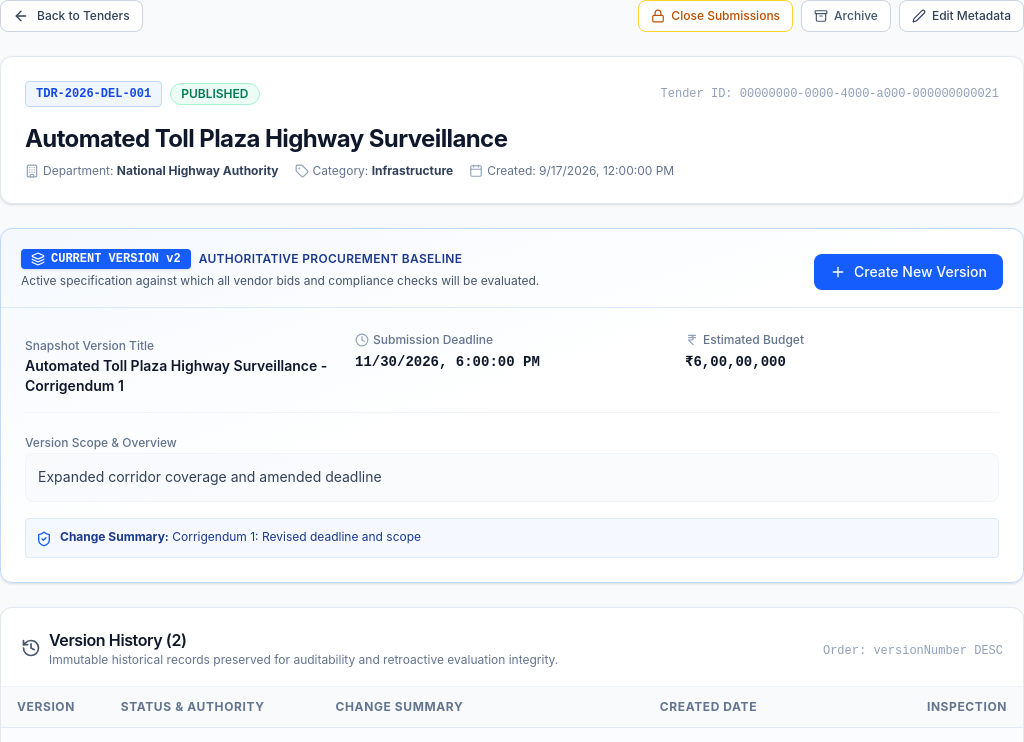
Phase 06 — Frontend Tender & Versioning Integration Tests › 2. Officer Tender Details Screen › handles 409 concurrency conflict when creating a version
This screenshot has width=1024, height=742.
Check: the text "Create New Version" is shown, box [854,262,987,282]
Open version creation modal
Click the button "Create New Version" at x=908, y=272, box [814,254,1003,290]
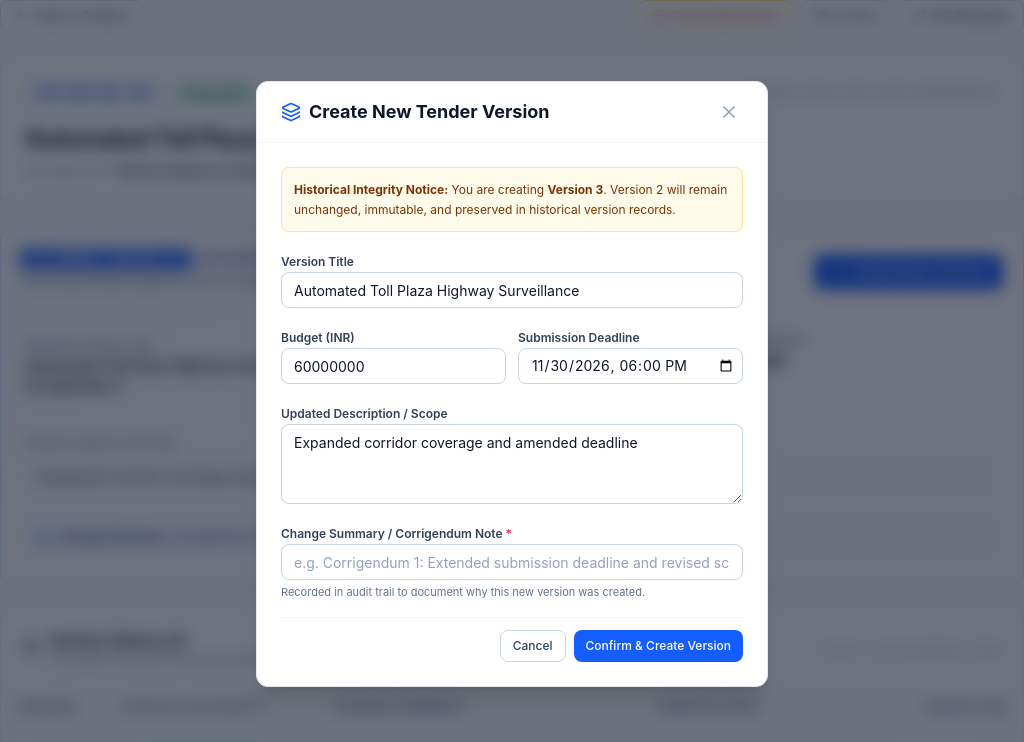
Check: the heading "Create New Tender Version" is shown, box [309,98,550,126]
Fill change summary
Replace the text in the field with placeholder "Corrigendum 1:" with "Conflicting update" at x=512, y=562, box [281,544,743,580]
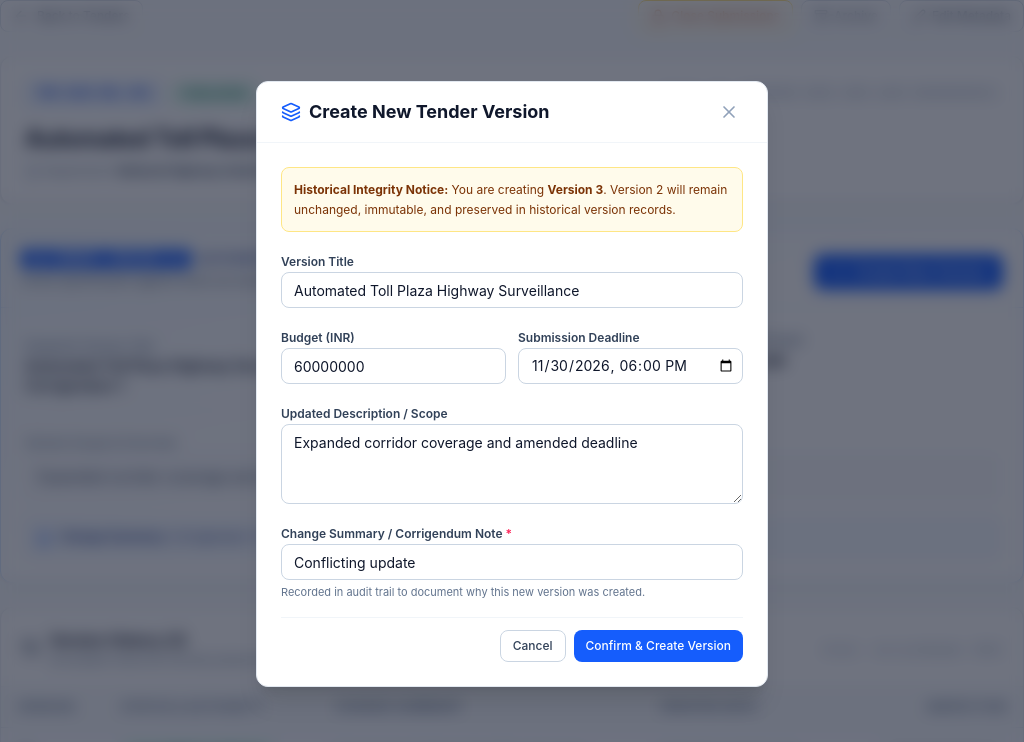
Submit form
Submit the form with placeholder "Corrigendum 1:", box [257,143,767,686]
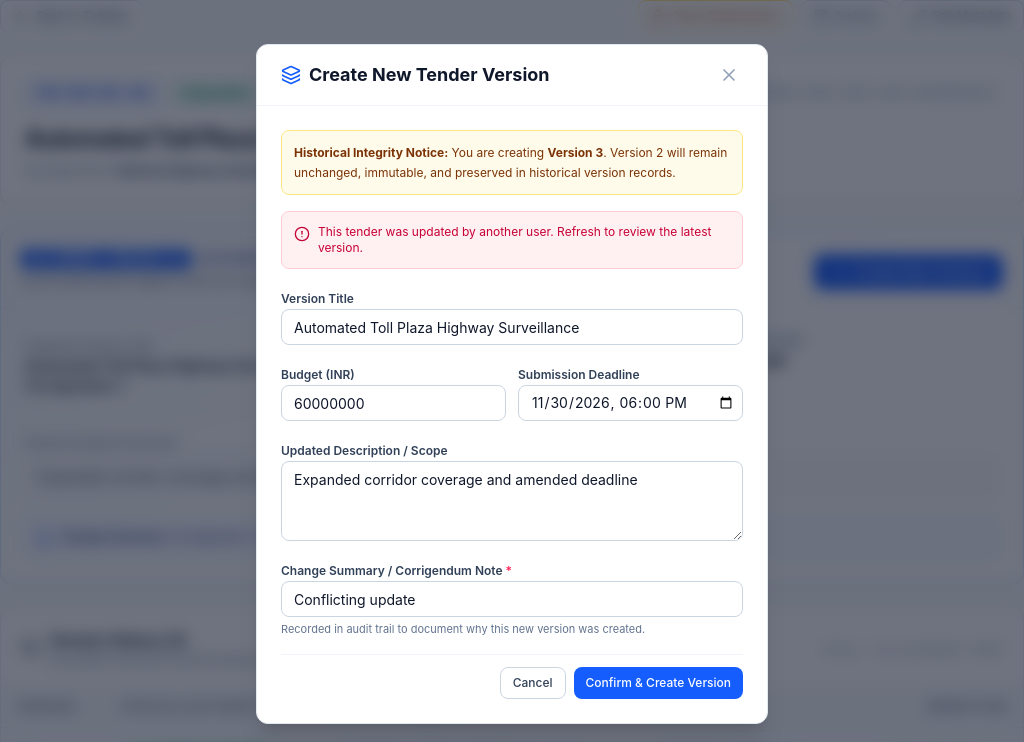
Check: the text "This tender was updated by another user. Refresh to review the latest version." is shown, box [318,224,730,256]
